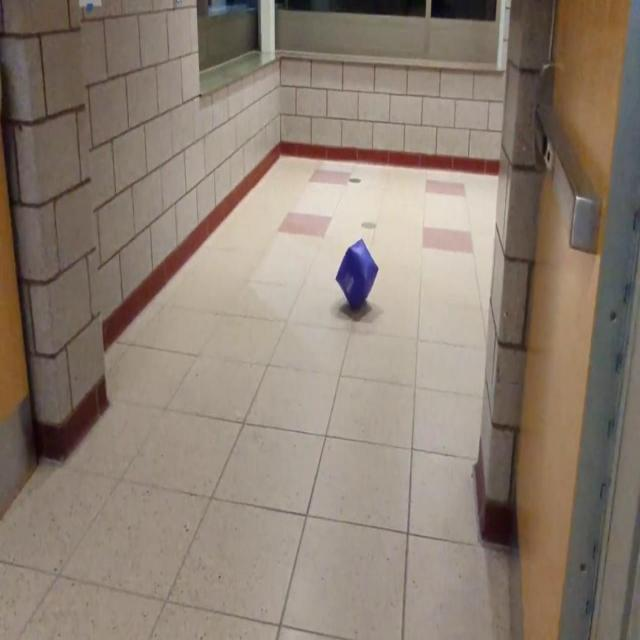frc_cube: (334, 238, 378, 308)
